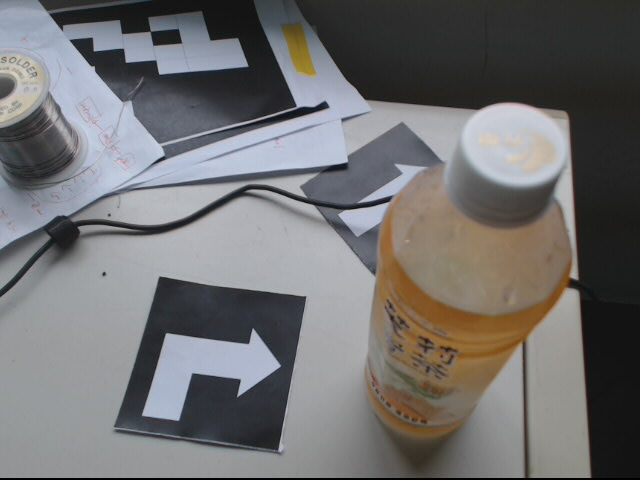right: (117, 272, 307, 451)
